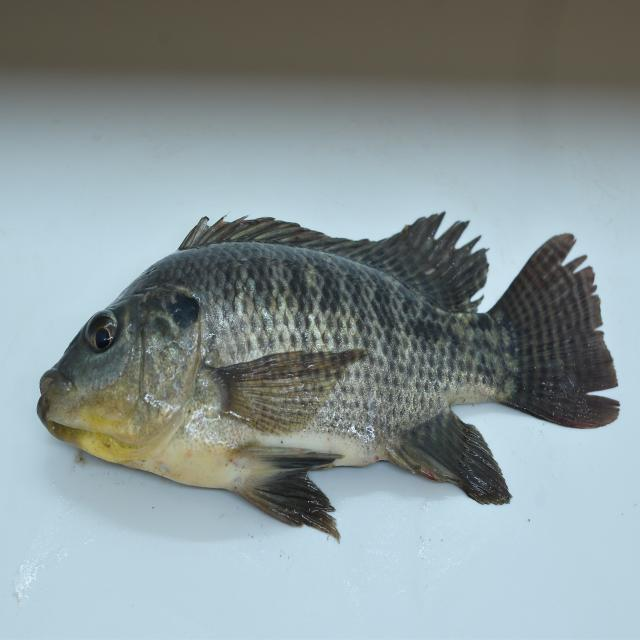Healthy Fish: (36, 211, 623, 540)
